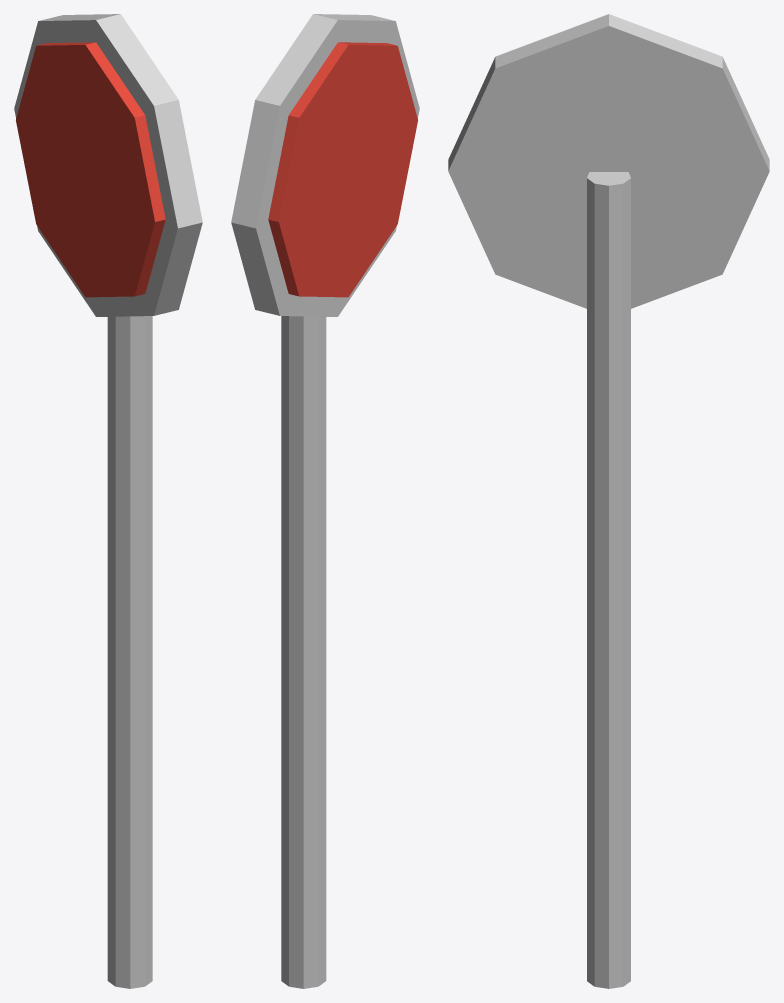
File: quaternius-public-transport-trafficsign-1.glb
3 views of the same model, side by side, from view 1: azimuth 30°, elevation 25°; view 2: azimuth 150°, elevation 25°; view 3: azimuth 270°, elevation 25° (orthographic).
Visible parts, largest first — view 1: TrafficSign; view 2: TrafficSign; view 3: TrafficSign.
Part boxes in pixels (x1,y1,x2,y2): TrafficSign: (14, 14, 202, 988); TrafficSign: (231, 14, 419, 988); TrafficSign: (448, 14, 769, 988).
Bounding box in the file's own units: 0.1058 × 1.52 × 0.4651.
